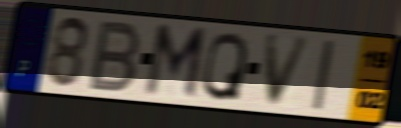8: (44, 15, 91, 91)
B: (85, 19, 144, 95)
I: (310, 38, 338, 112)
M: (141, 22, 210, 103)
Q: (200, 30, 251, 104)
V: (263, 34, 314, 109)
